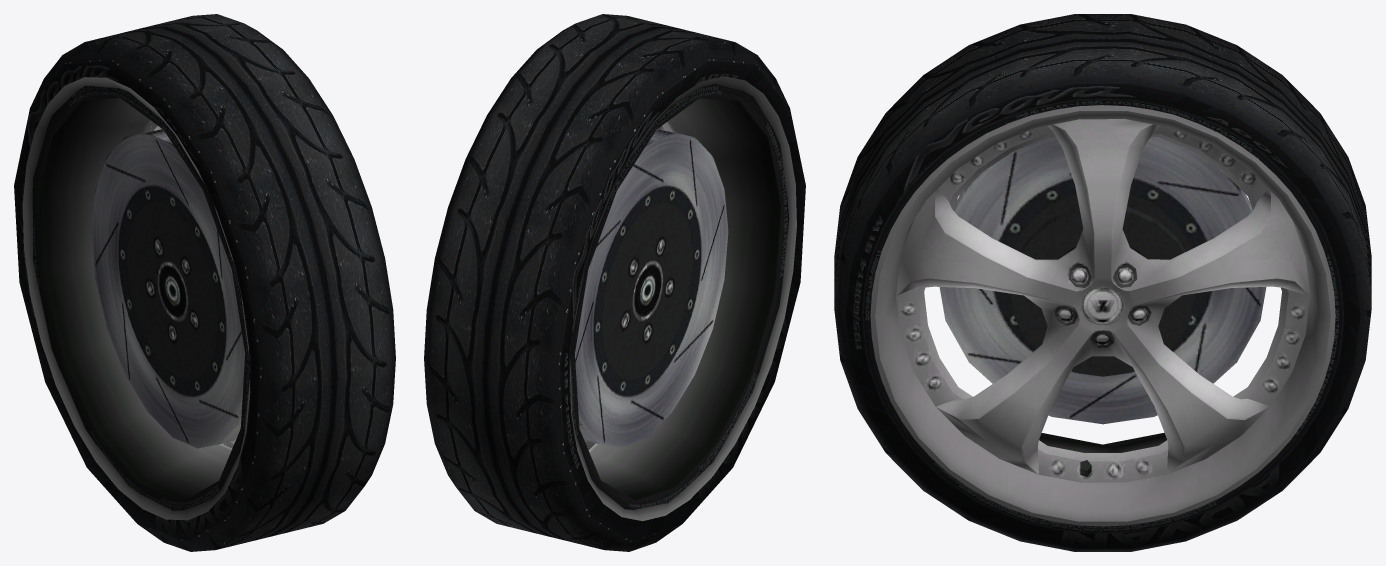
Rendered from wheel5.fbx.
3 renders of one model, left to right at view 1: azimuth 30°, elevation 25°; view 2: azimuth 150°, elevation 25°; view 3: azimuth 270°, elevation 25°, orthographic. The views are drawn at different scales.
Parts seen in each view (by area): view 1: wheel_LOD0; view 2: wheel_LOD0; view 3: wheel_LOD0.
Part boxes in pixels (bbox=[...]): wheel_LOD0: bbox=[14, 14, 395, 551]; wheel_LOD0: bbox=[424, 14, 805, 551]; wheel_LOD0: bbox=[834, 14, 1371, 551].
Bounding box in the file's own units: 30.25 × 101 × 101.
5 materials, 5 textured.
